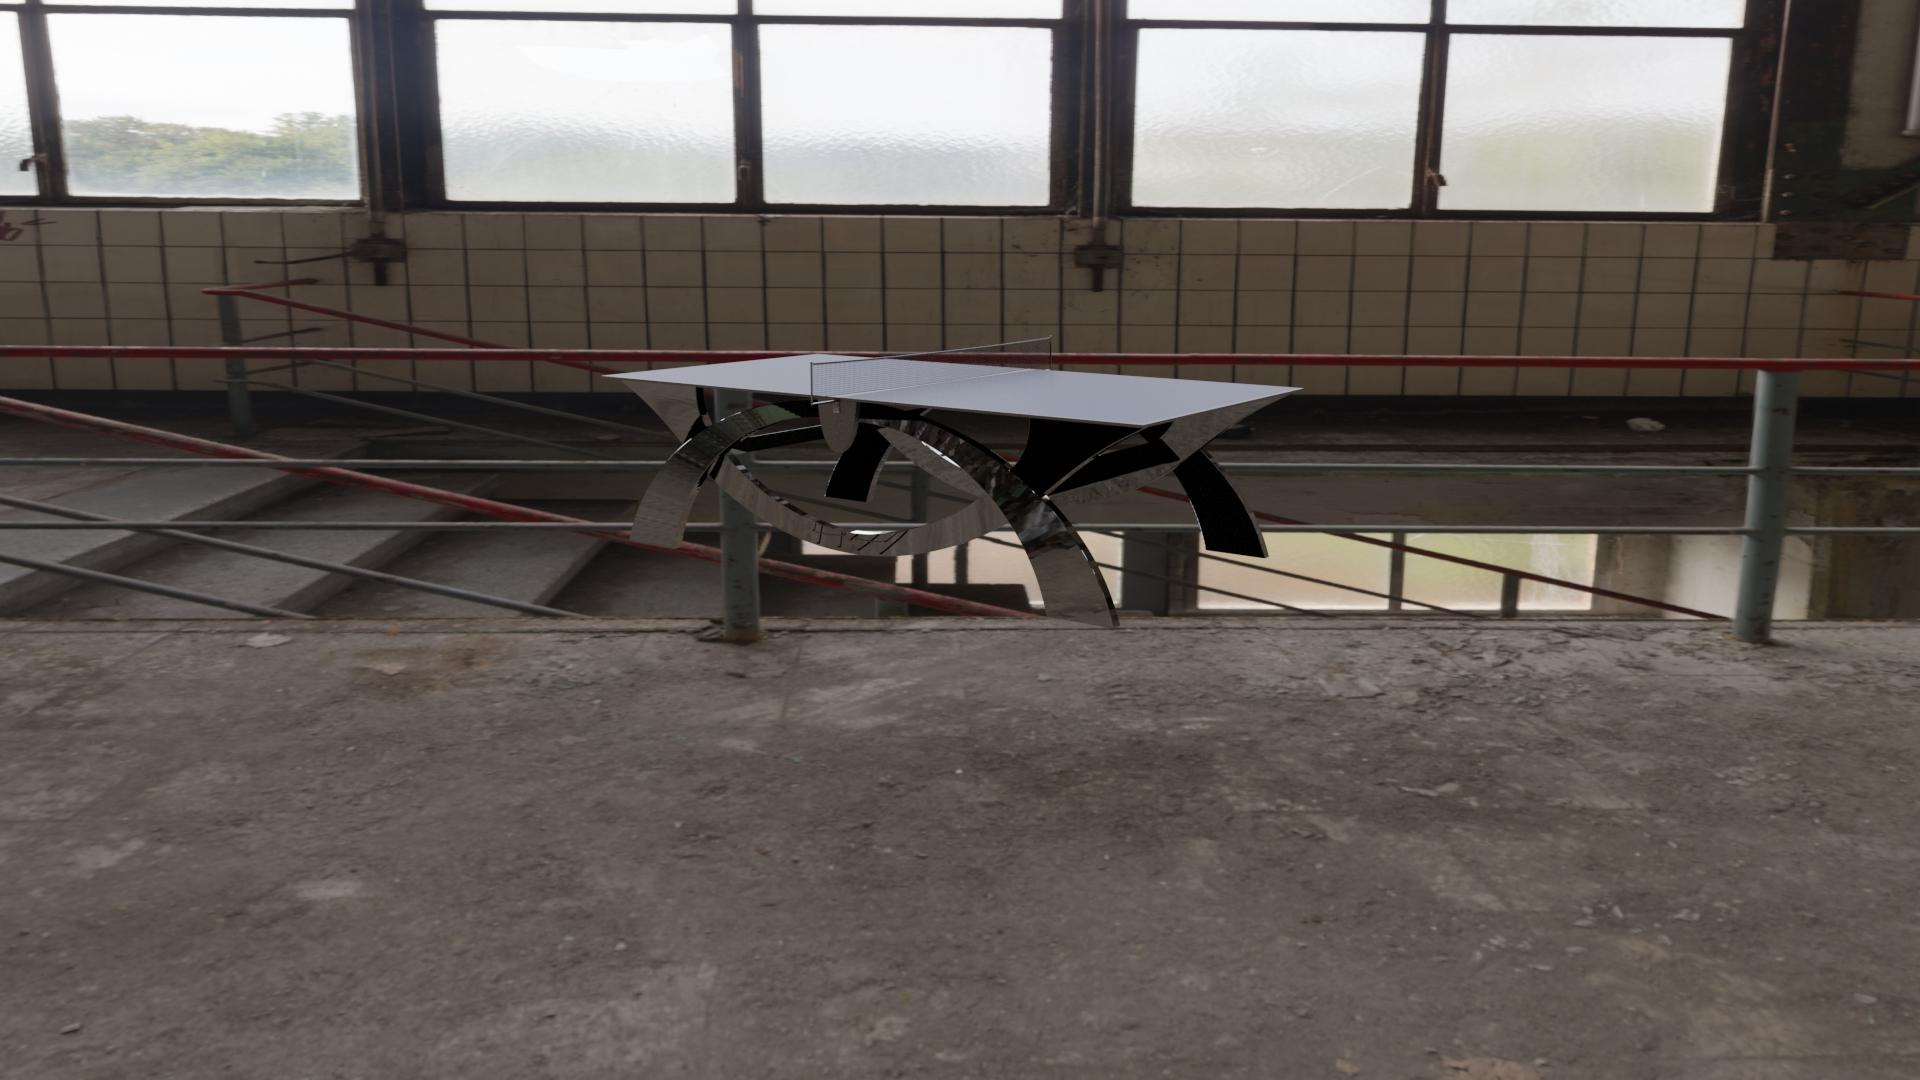table: (608, 355, 1298, 423)
